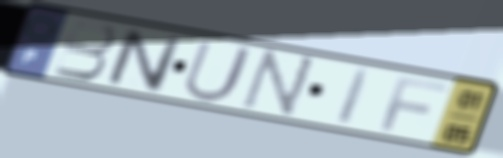B: (50, 17, 118, 82)
F: (377, 75, 451, 134)
I: (332, 65, 377, 129)
N: (236, 48, 321, 121), (103, 25, 184, 96)
U: (179, 38, 258, 105)
